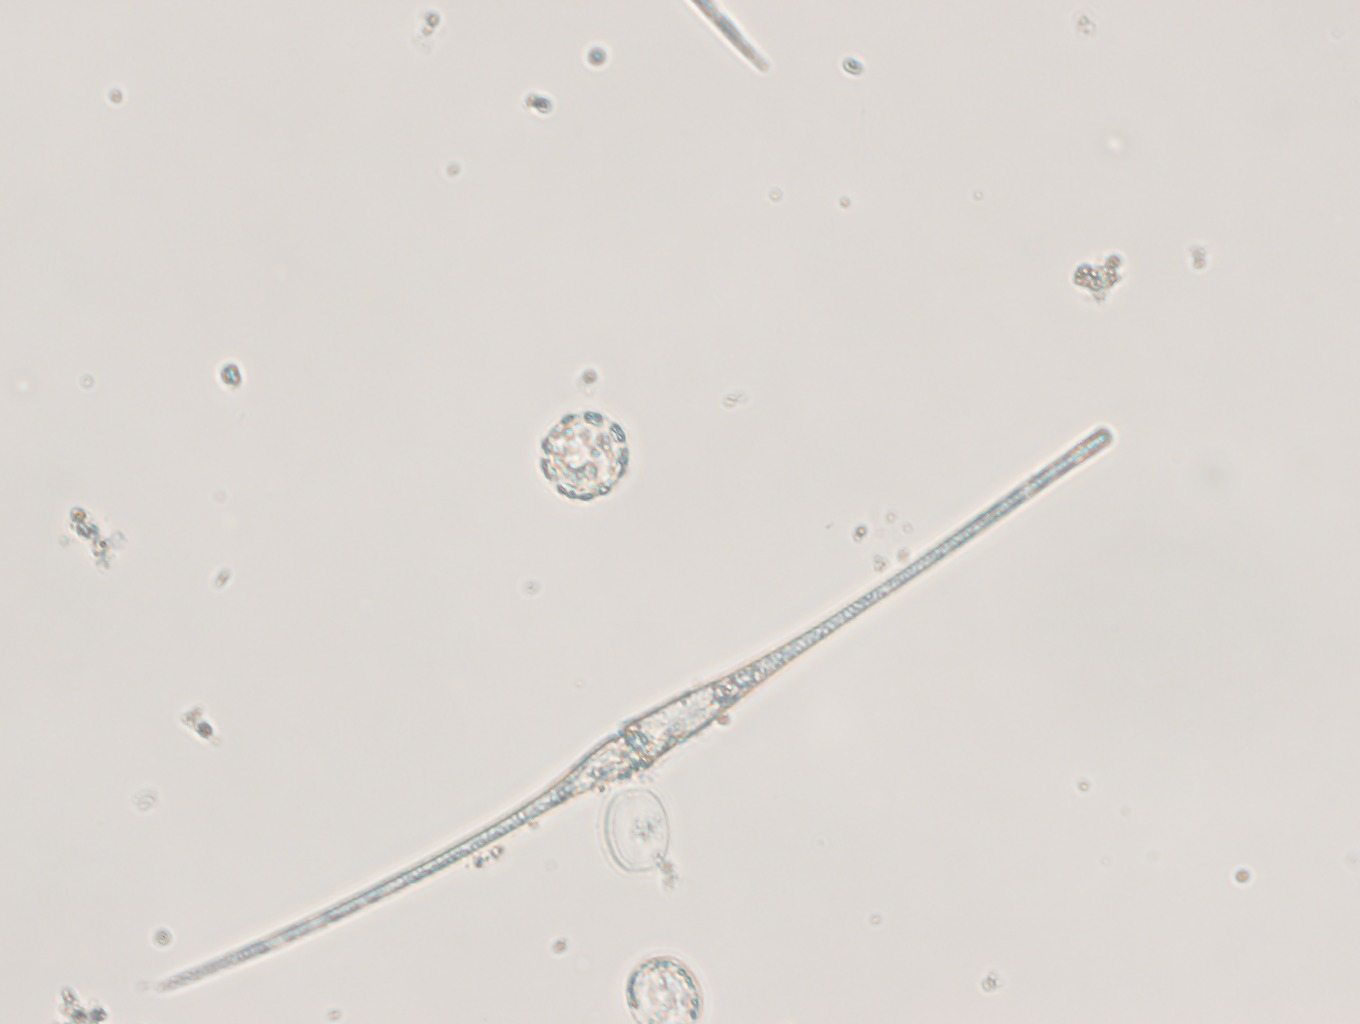ceratium fusus: (163, 424, 1114, 997)
